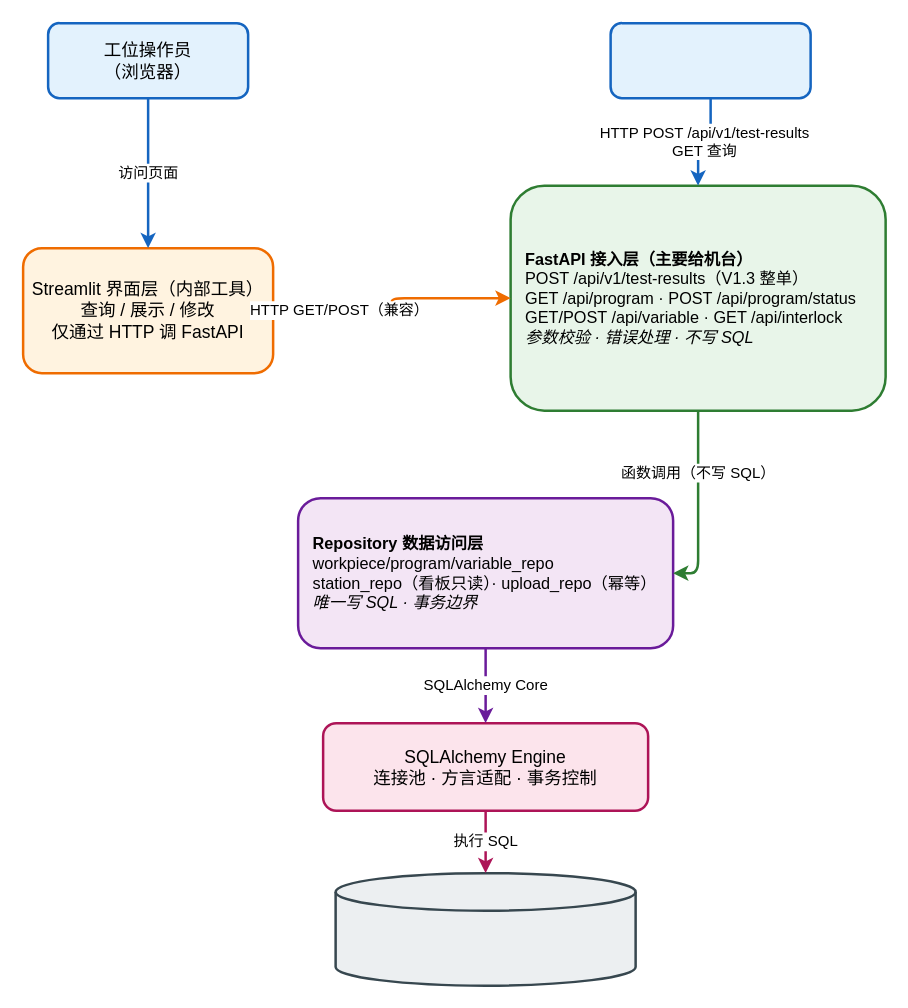
This 908x1008 diagram has some shape labels left out. The centre of each missing label's shape, as x and y in pixels:
SQLite 单文件 （未来可换 PostgreSQL）: [485,928]
测试机台: [710,60]
